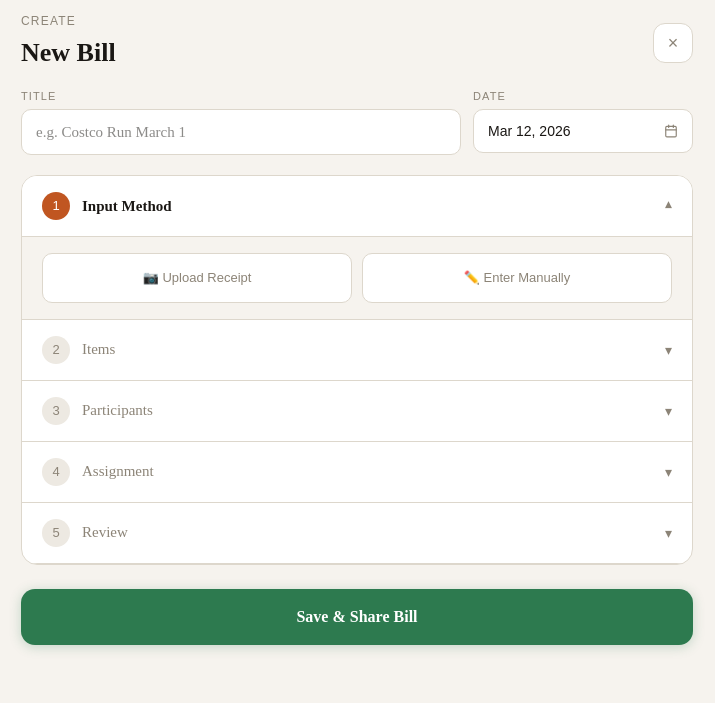
Test case: BillForm component › shows validation warning when less than 2 participants
Click the button with test id "section-header-2".
click(117, 410)  # box 22,380 -> 692,442
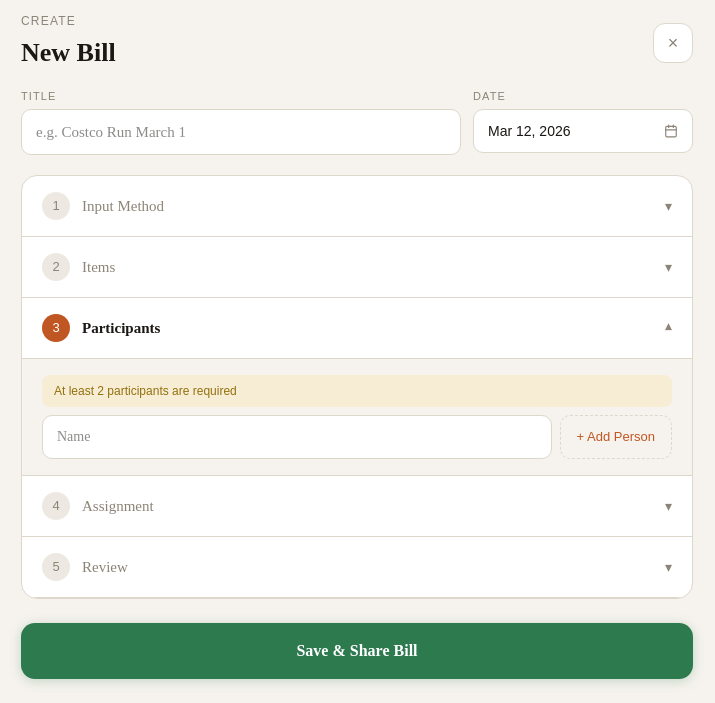
Expected: the text "At least 2 participants are required" is shown, 42,375 -> 672,407
